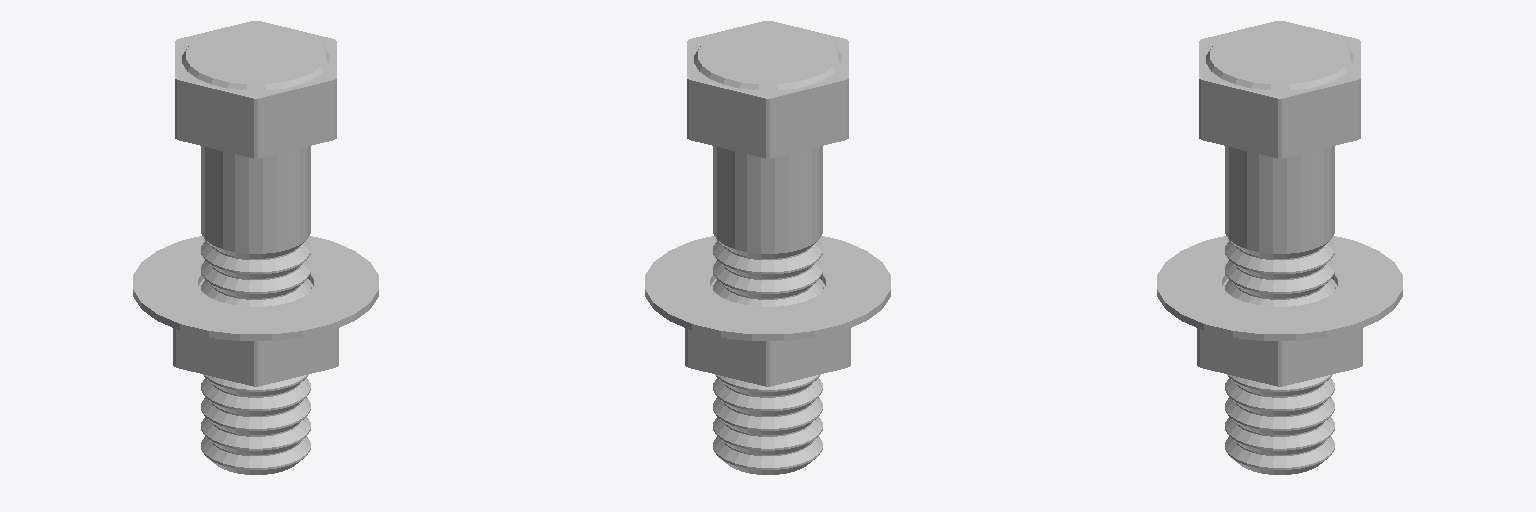
The model's file is boltandnut.obj.
3 renders of one model, left to right at view 1: azimuth 30°, elevation 25°; view 2: azimuth 150°, elevation 25°; view 3: azimuth 270°, elevation 25°, orthographic.
Parts seen in each view (by area): view 1: bolt_and_nut; view 2: bolt_and_nut; view 3: bolt_and_nut.
Boxes of the visible parts, <box> form: bolt_and_nut: <box>133,21,378,474</box>; bolt_and_nut: <box>645,21,890,474</box>; bolt_and_nut: <box>1157,21,1402,474</box>.
Size of the model in its own units: 1.09 by 1.97 by 1.09.